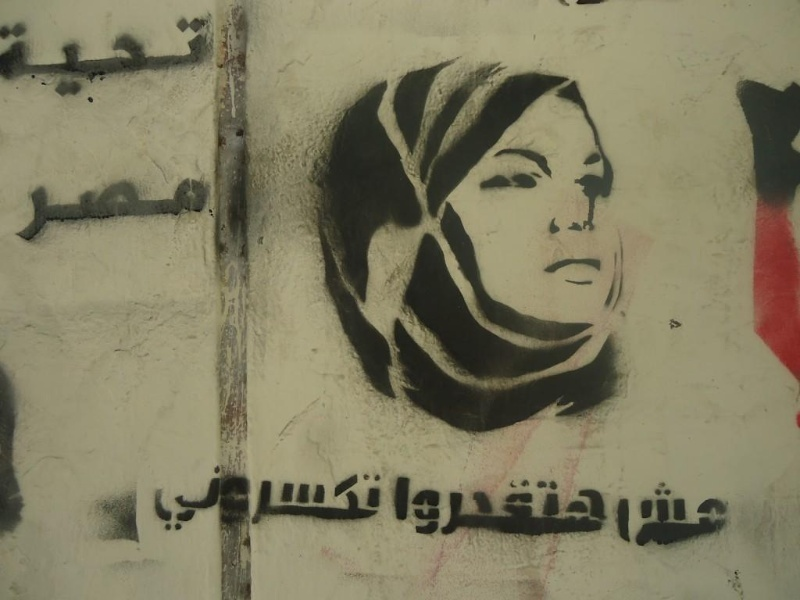text: (161, 460, 176, 548), (177, 460, 192, 548), (193, 460, 208, 548), (209, 460, 224, 548), (225, 460, 240, 548), (241, 460, 256, 548), (257, 460, 272, 548), (273, 460, 288, 548), (289, 460, 304, 548), (305, 460, 320, 548), (321, 460, 336, 548), (337, 460, 352, 548), (353, 460, 368, 548), (369, 460, 384, 548), (1, 11, 16, 98), (17, 11, 32, 98), (33, 11, 48, 98), (49, 11, 64, 98), (65, 11, 80, 98), (81, 11, 96, 98), (97, 11, 112, 98), (113, 11, 128, 98), (129, 11, 144, 98), (145, 11, 160, 98), (161, 11, 176, 98), (177, 11, 192, 98), (193, 11, 208, 98), (625, 481, 640, 550), (641, 481, 656, 550), (657, 481, 672, 550), (673, 481, 688, 550), (689, 481, 704, 550), (705, 481, 720, 550), (17, 174, 32, 242), (33, 174, 48, 242), (49, 174, 64, 242), (65, 174, 80, 242), (81, 174, 96, 242), (97, 174, 112, 242), (113, 174, 128, 242), (129, 174, 144, 242), (145, 174, 160, 242), (161, 174, 176, 242), (177, 174, 192, 242), (193, 174, 208, 242), (401, 476, 416, 538), (417, 476, 432, 538), (433, 476, 448, 538), (449, 476, 464, 538), (465, 476, 480, 538), (481, 476, 496, 538), (497, 476, 512, 538), (513, 476, 528, 538), (529, 476, 544, 538), (545, 476, 560, 538), (561, 476, 576, 538), (577, 476, 592, 538), (593, 476, 608, 538), (209, 11, 218, 98), (615, 481, 624, 550), (721, 481, 730, 550), (393, 476, 400, 538), (159, 460, 160, 548), (385, 460, 386, 548), (15, 174, 16, 242), (209, 174, 210, 242)
